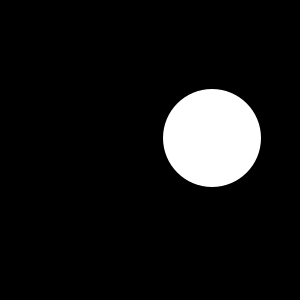rectangle: (163, 89, 261, 187)
